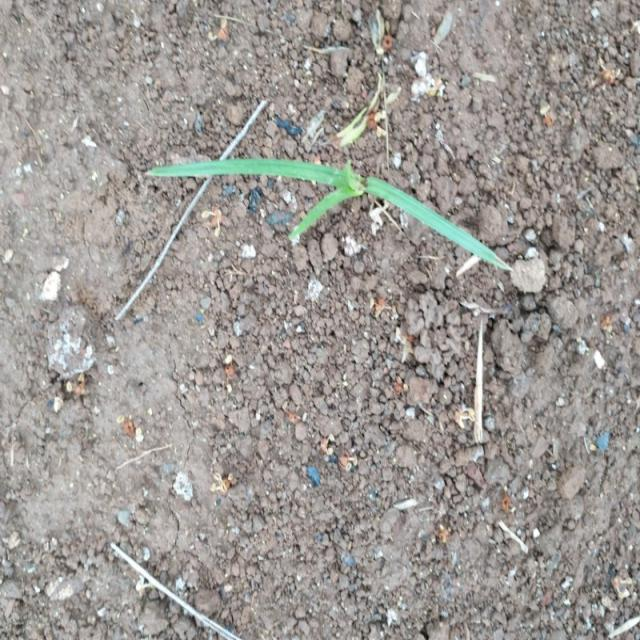sedge: (115, 116, 535, 288)
